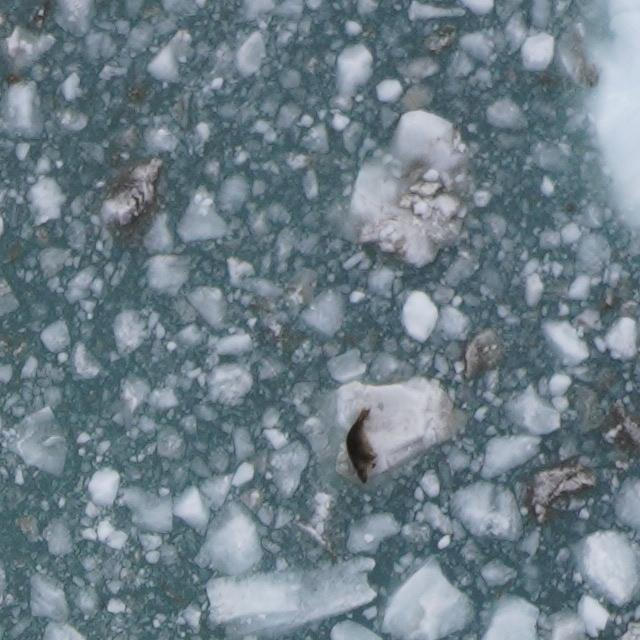seal: (343, 403, 380, 487)
